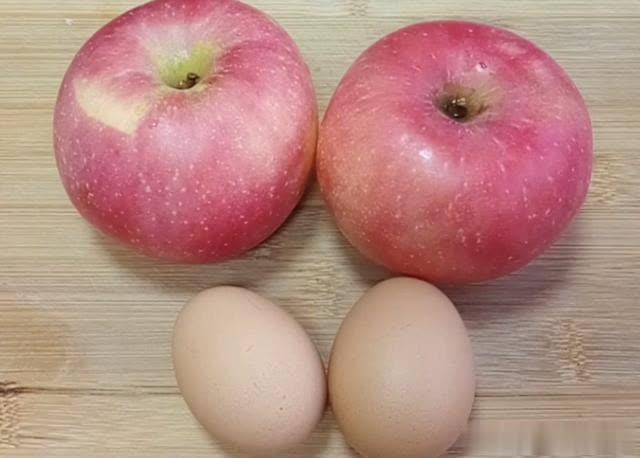apple: (315, 19, 594, 289), (52, 1, 325, 265)
